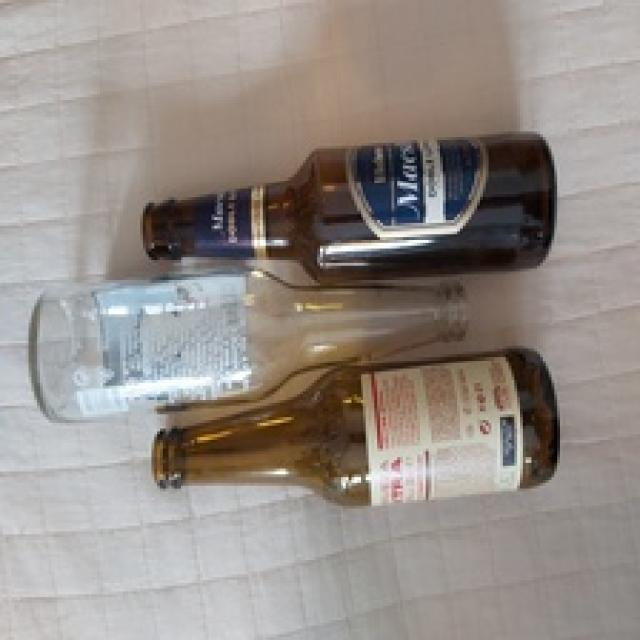Glass: (28, 270, 466, 426), (150, 348, 560, 507), (142, 132, 557, 282)
